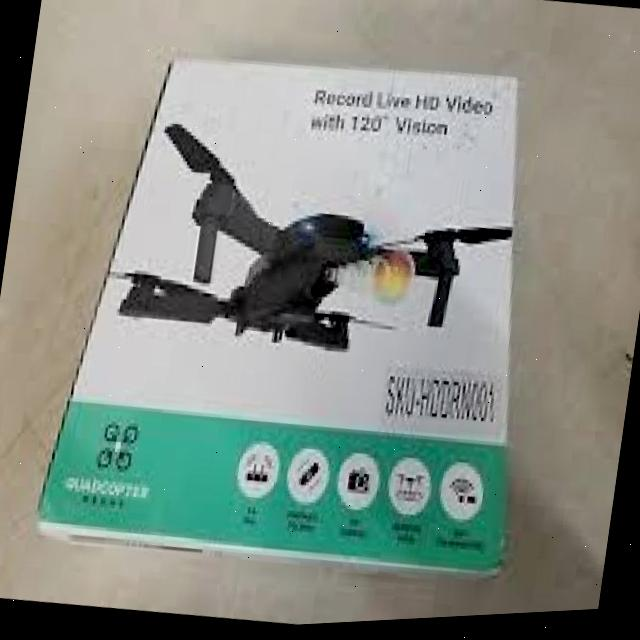drone: (98, 101, 528, 431)
